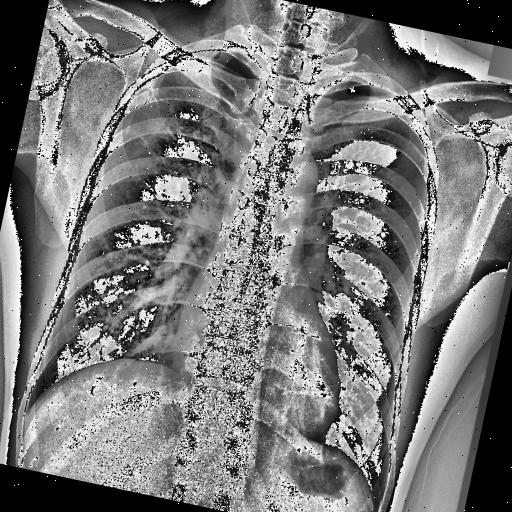11- Pleural thickening: (128, 42, 193, 98)
13- Pulmonary fibrosis: (130, 74, 204, 158), (117, 79, 188, 152), (126, 72, 192, 147)
